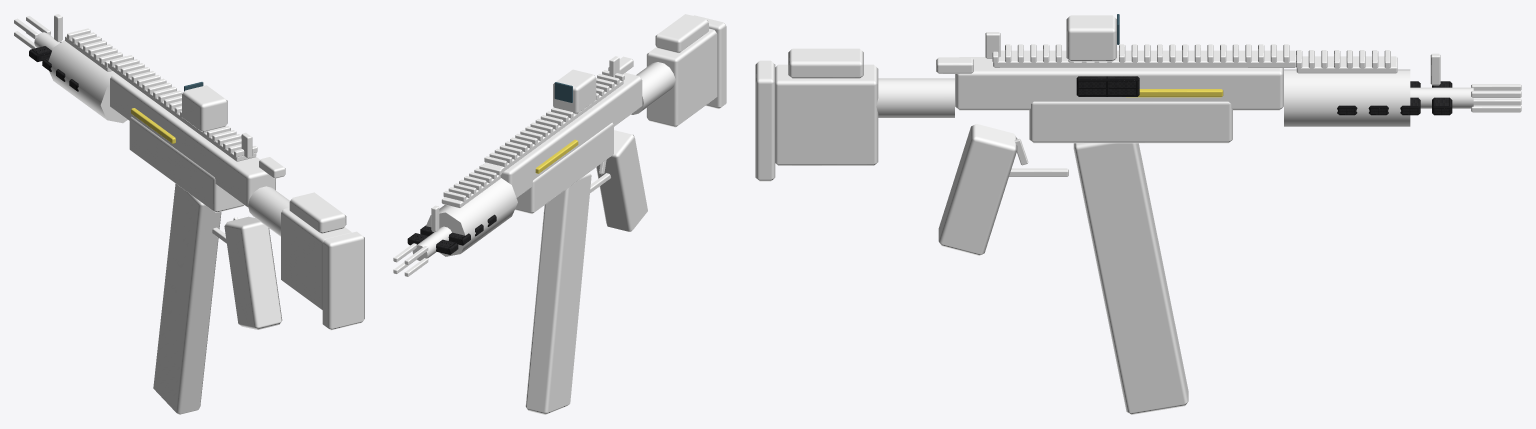
The model's file is wasp.glb.
3 renders of one model, left to right at view 1: azimuth 30°, elevation 25°; view 2: azimuth 150°, elevation 25°; view 3: azimuth 270°, elevation 25°, orthographic. The views are drawn at different scales.
Size of the model in its own units: 0.05 by 0.3409 by 0.606.
Materials: 5 (1 with a texture image).
